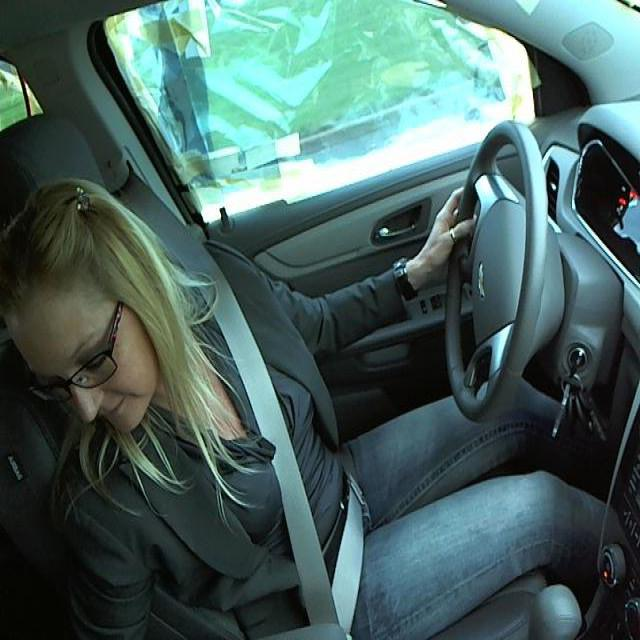seatbelt: (186, 268, 379, 620)
